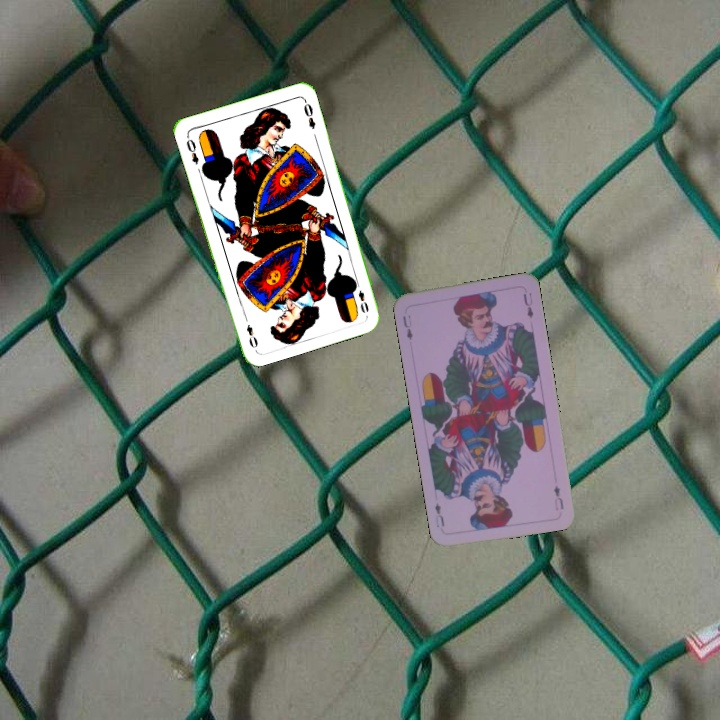EO: (351, 277, 371, 316), (182, 132, 201, 167)
EU: (399, 311, 415, 343), (550, 481, 566, 513)
